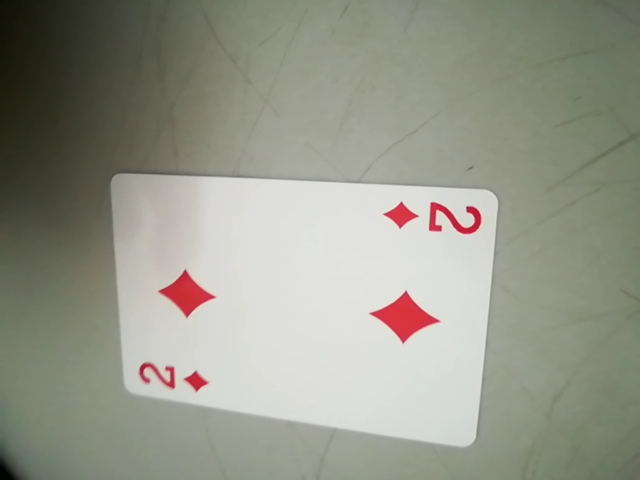fk 2: (381, 193, 487, 243), (130, 353, 219, 400)
